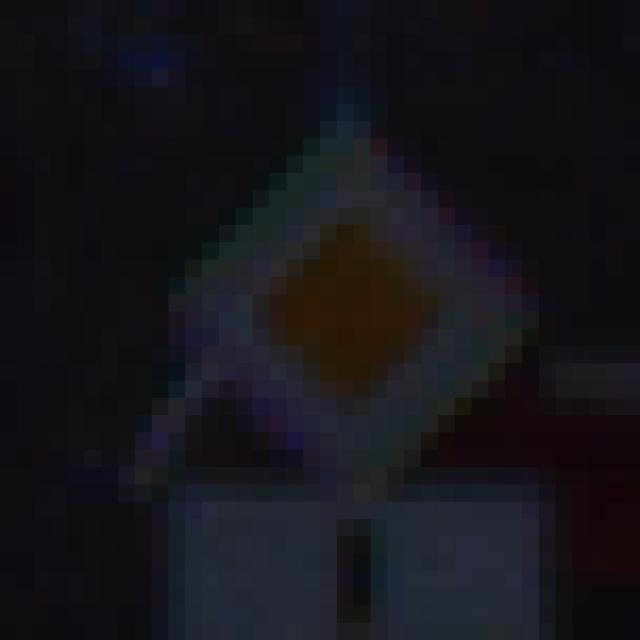Main Road: (102, 88, 557, 555)
